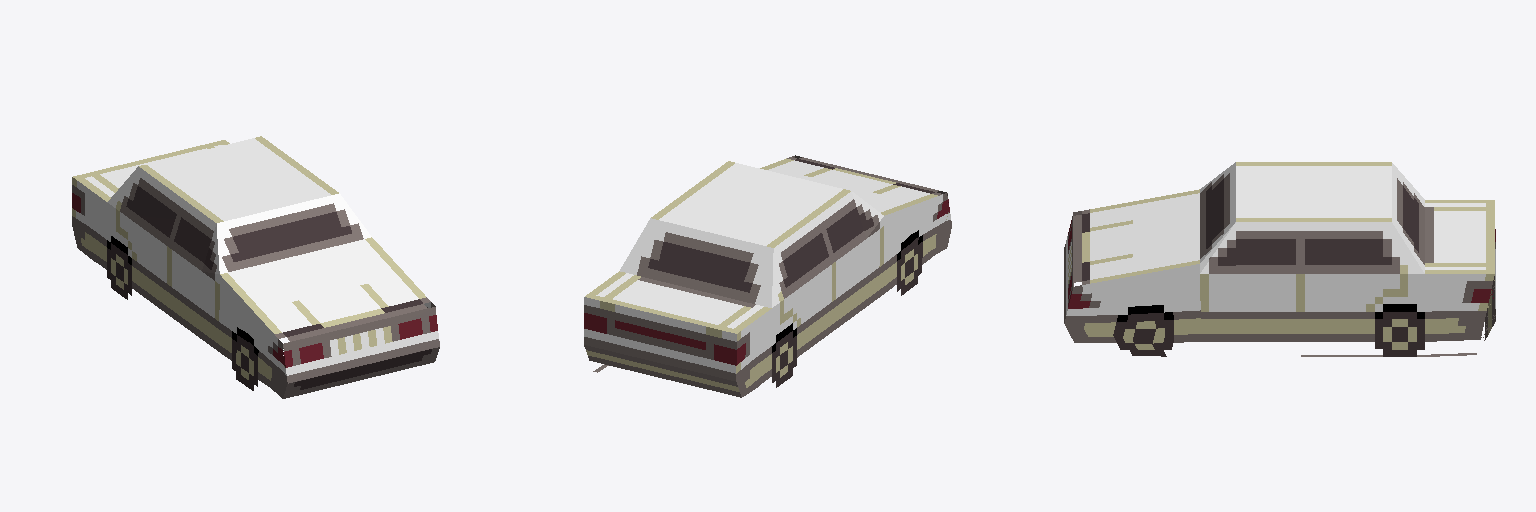
3 renders of one model, left to right at view 1: azimuth 30°, elevation 25°; view 2: azimuth 150°, elevation 25°; view 3: azimuth 270°, elevation 25°, orthographic.
Parts seen in each view (by area): view 1: Cube; view 2: Cube; view 3: Cube.
Boxes of the visible parts, x1=… form: Cube: x1=72, y1=136, x2=439, y2=398; Cube: x1=584, y1=155, x2=951, y2=397; Cube: x1=1064, y1=162, x2=1495, y2=356.
Bounding box in the file's own units: 1.25 × 1 × 3.06.
1 materials, 1 textured.